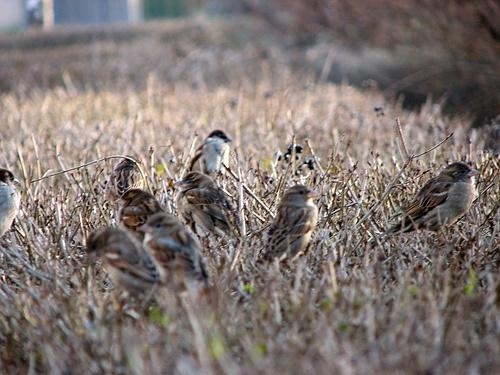bird: (373, 163, 482, 256), (83, 227, 162, 309), (256, 181, 323, 273), (134, 211, 210, 290), (172, 177, 237, 243), (189, 130, 234, 174), (96, 155, 149, 188), (118, 188, 157, 226), (3, 167, 22, 242)
